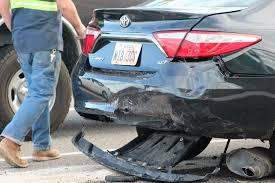rear-bumper-dent: (84, 92, 218, 152)
